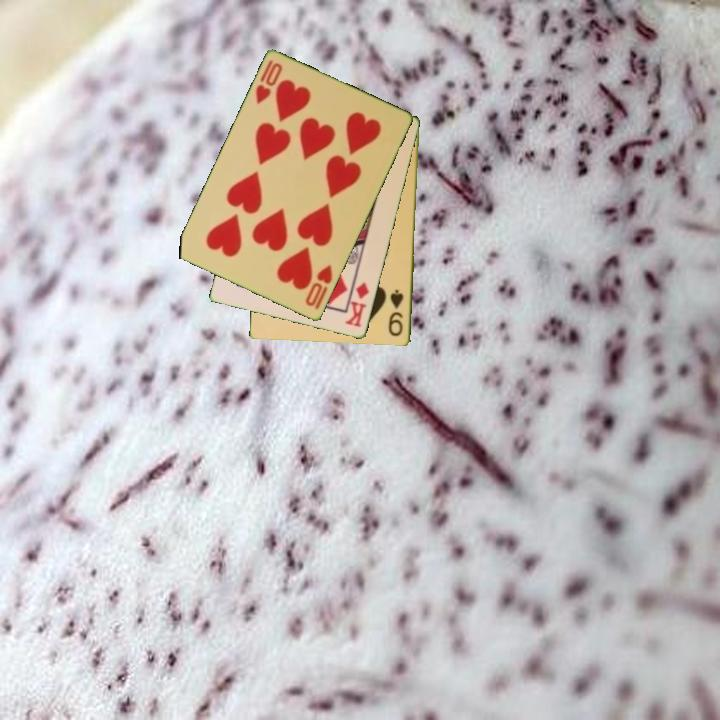10h: (252, 56, 286, 108), (302, 261, 336, 310)
9s: (385, 286, 407, 339)
Kd: (342, 279, 372, 330)
